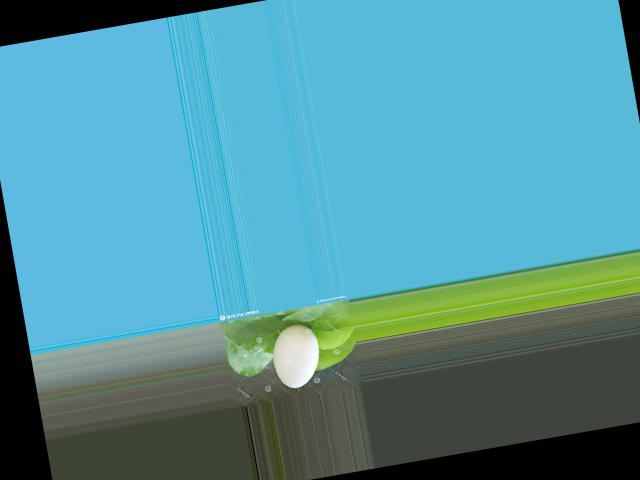egg: (268, 321, 325, 390)
